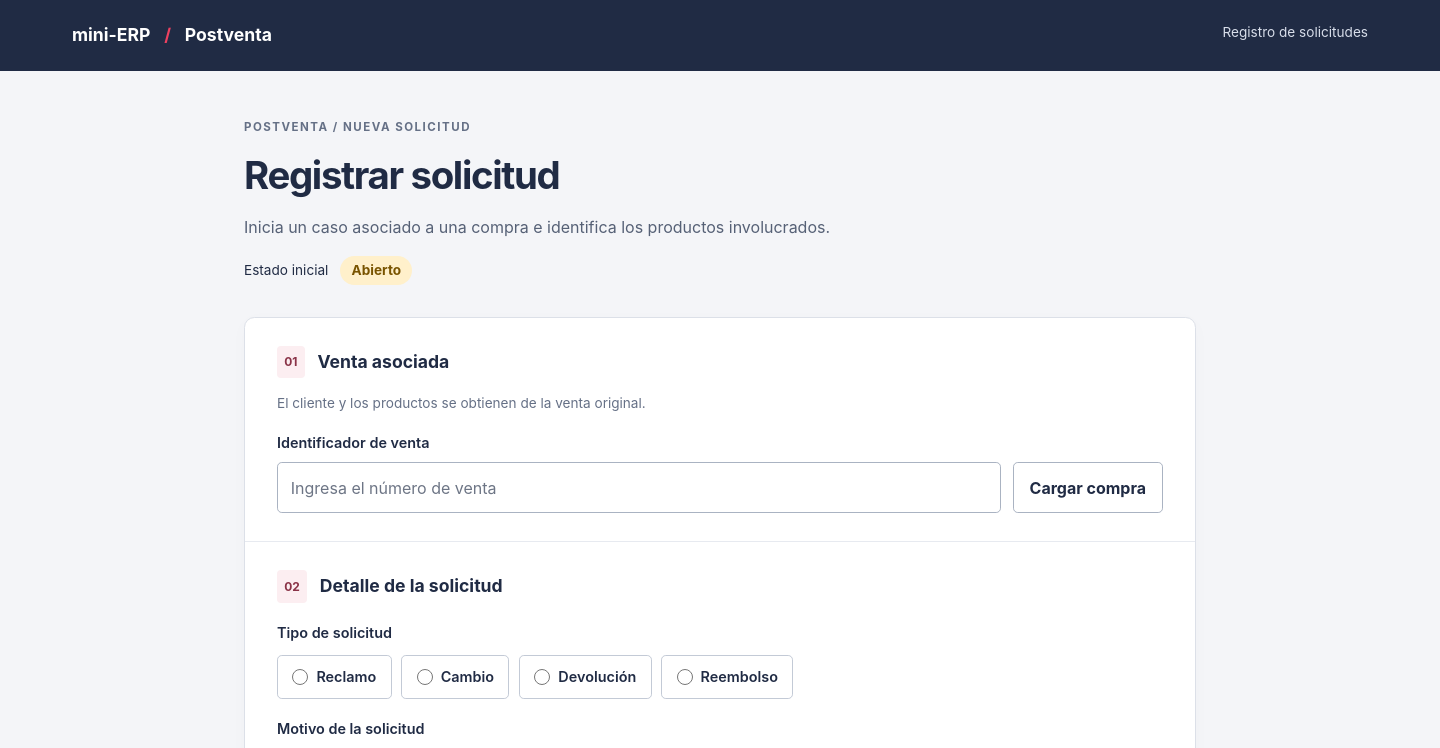
Test: HU-01: formulario de registro › informa un fallo de red
This screenshot has width=1440, height=748.
In the number field labelled "Identificador de venta": (639, 488) [277,462,1001,513], type "10"
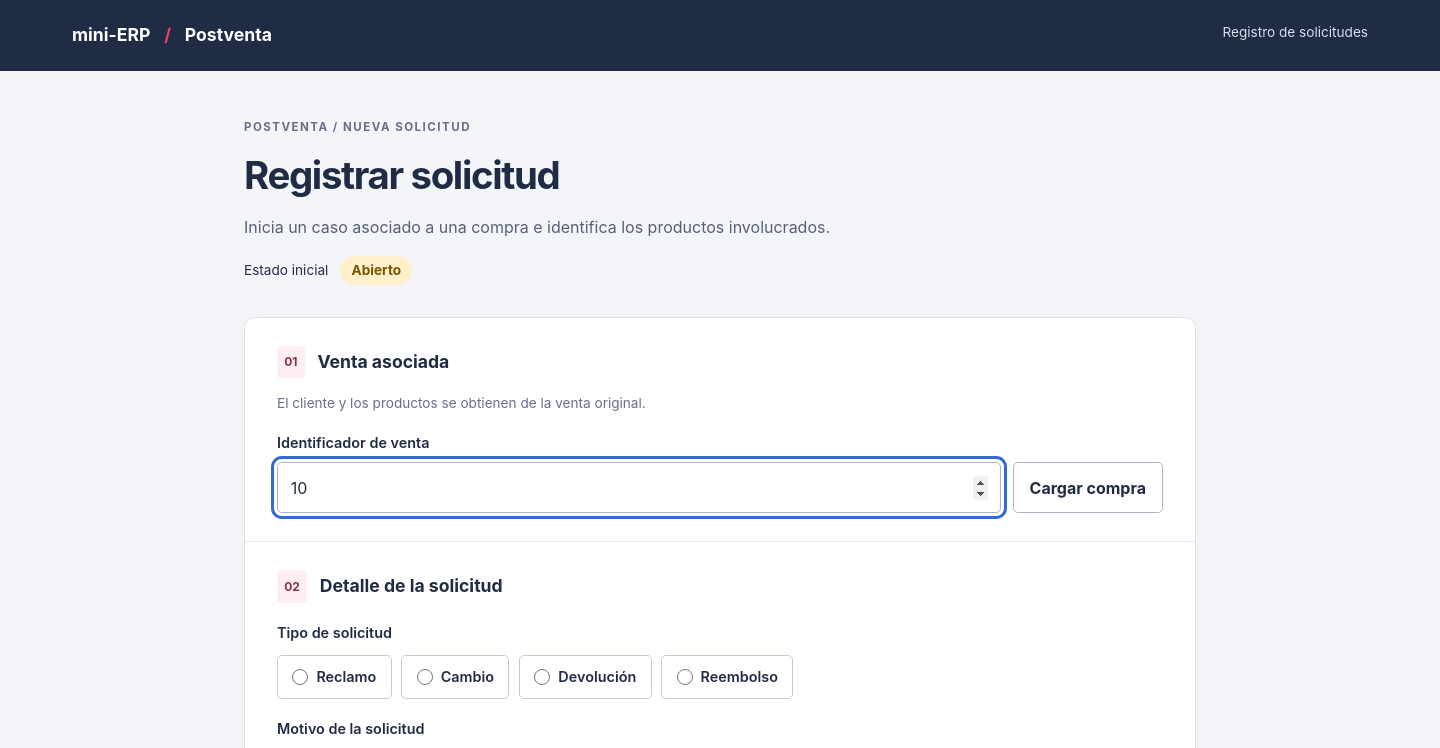
Click the button "Cargar compra": (1088, 488) [1012,462,1163,513]
(page scrolled)
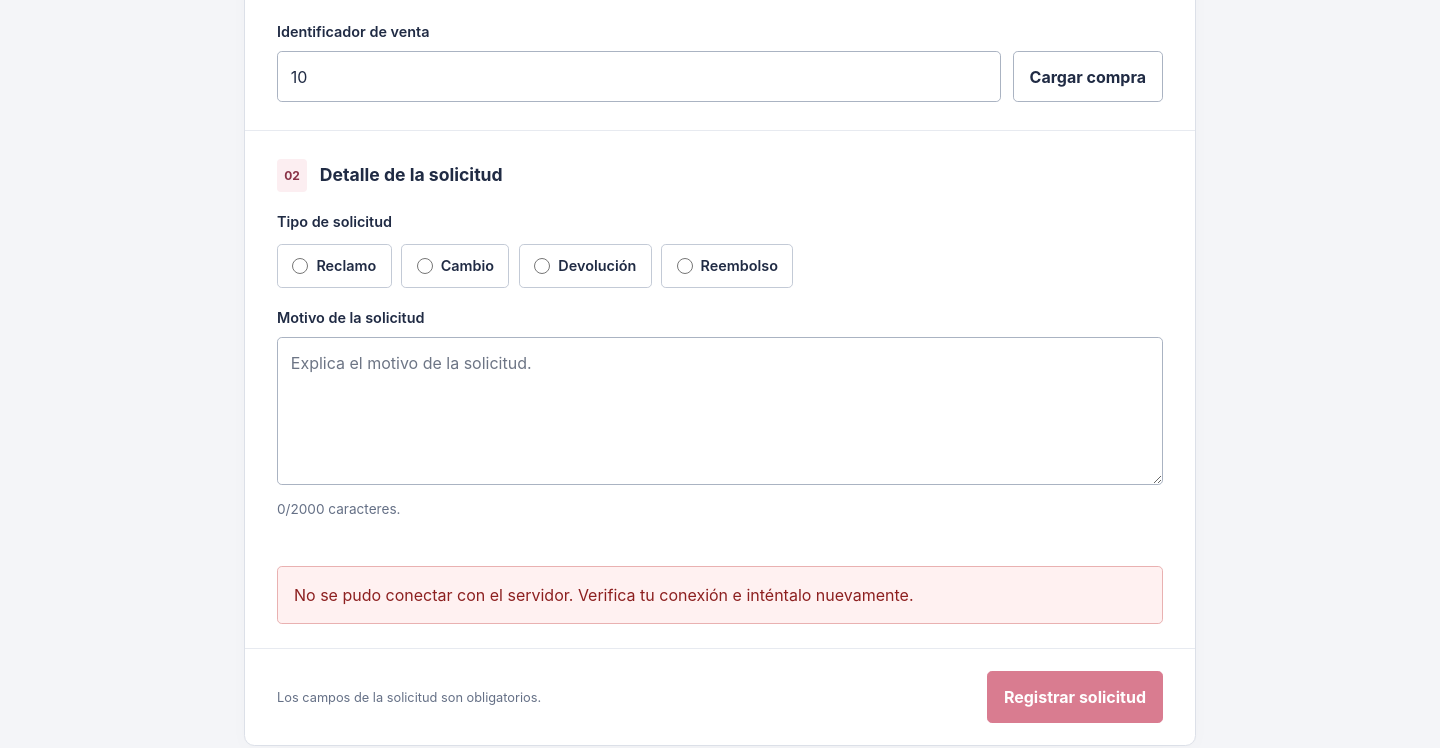
Now the message shows "No se pudo conectar", box [294,585,914,605]
